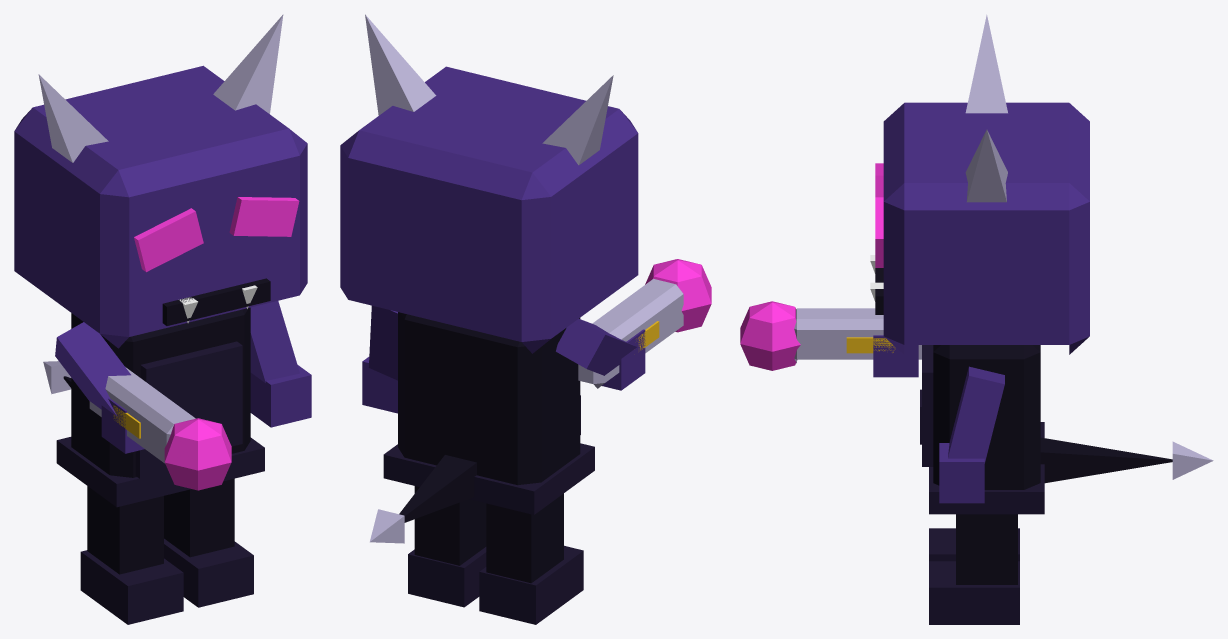
Rendered from gunner_r16.glb.
3 views of the same model, side by side, from view 1: azimuth 30°, elevation 25°; view 2: azimuth 150°, elevation 25°; view 3: azimuth 270°, elevation 25° (orthographic). The views are drawn at different scales.
Visible parts, largest first — view 1: gunner_r16_mesh; view 2: gunner_r16_mesh; view 3: gunner_r16_mesh.
Boxes of the visible parts, x1=… form: gunner_r16_mesh: x1=14, y1=14, x2=311, y2=624; gunner_r16_mesh: x1=340, y1=14, x2=711, y2=624; gunner_r16_mesh: x1=740, y1=14, x2=1213, y2=624.
Bounding box in the file's own units: 0.7655 × 1.6 × 1.31.
Materials: 1 (1 with a texture image).
